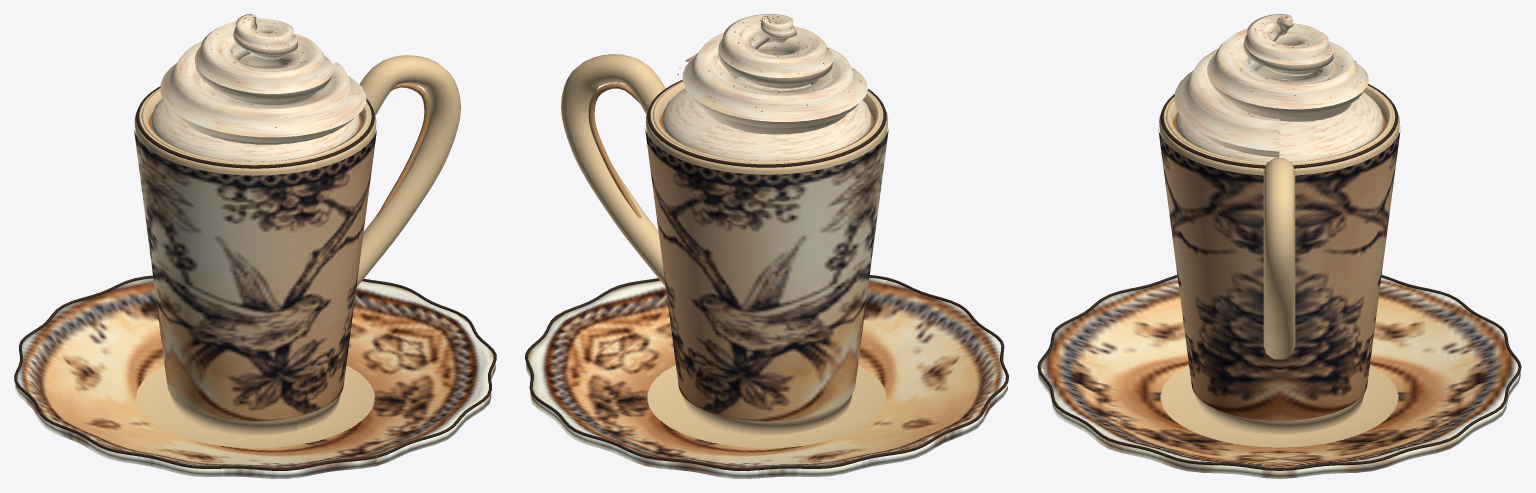
The model's file is colattao-cup-saucer.glb.
3 views of the same model, side by side, from view 1: azimuth 30°, elevation 25°; view 2: azimuth 150°, elevation 25°; view 3: azimuth 270°, elevation 25° (orthographic).
Parts seen in each view (by area): view 1: source-ivory-dark-toile, source-saucer-botanical-print, vanilla-whipped-cream, warm-ivory-ceramic, source-dark-brown-toile, handle-shadow-glaze; view 2: source-ivory-dark-toile, source-saucer-botanical-print, vanilla-whipped-cream, warm-ivory-ceramic, source-dark-brown-toile, handle-shadow-glaze; view 3: source-saucer-botanical-print, source-ivory-dark-toile, vanilla-whipped-cream, warm-ivory-ceramic, source-dark-brown-toile.
Boxes of the visible parts, box(x1,y1,x2,y2) form: source-ivory-dark-toile: box(134, 130, 376, 421); source-saucer-botanical-print: box(15, 278, 495, 478); vanilla-whipped-cream: box(151, 14, 366, 161); warm-ivory-ceramic: box(134, 55, 460, 434); source-dark-brown-toile: box(14, 86, 496, 470); handle-shadow-glaze: box(377, 84, 430, 216); source-ivory-dark-toile: box(645, 128, 888, 421); source-saucer-botanical-print: box(526, 277, 1007, 478); vanilla-whipped-cream: box(662, 14, 871, 160); warm-ivory-ceramic: box(561, 54, 888, 434); source-dark-brown-toile: box(525, 80, 1008, 470); handle-shadow-glaze: box(588, 83, 641, 218); source-saucer-botanical-print: box(1038, 277, 1520, 478); source-ivory-dark-toile: box(1158, 127, 1400, 420); vanilla-whipped-cream: box(1174, 14, 1383, 161); warm-ivory-ceramic: box(1159, 85, 1399, 434); source-dark-brown-toile: box(1037, 84, 1521, 470).
Size of the model in its own units: 0.1508 by 0.1349 by 0.1508.
Materials: 8 (3 with a texture image).
